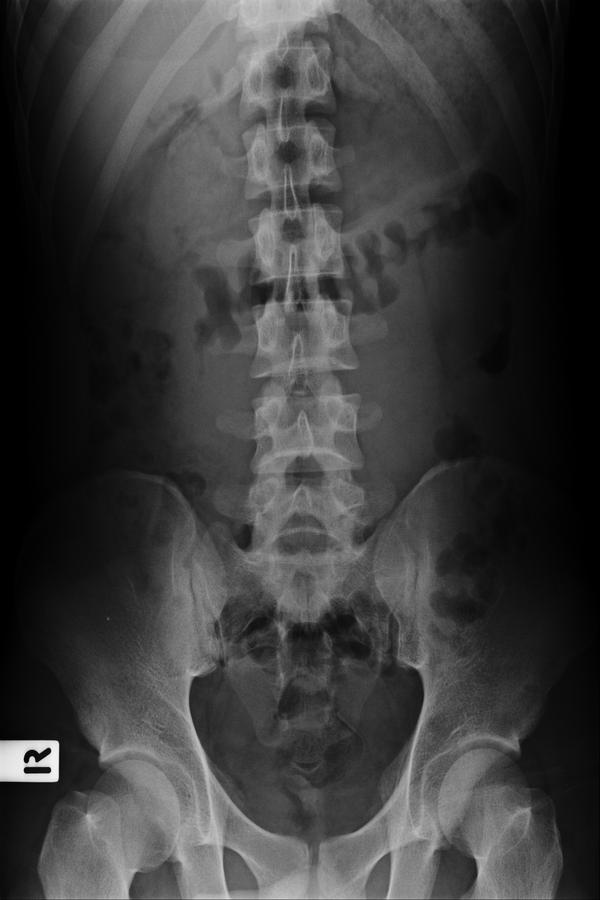not lumbar scoliosis: (236, 215, 381, 592)
